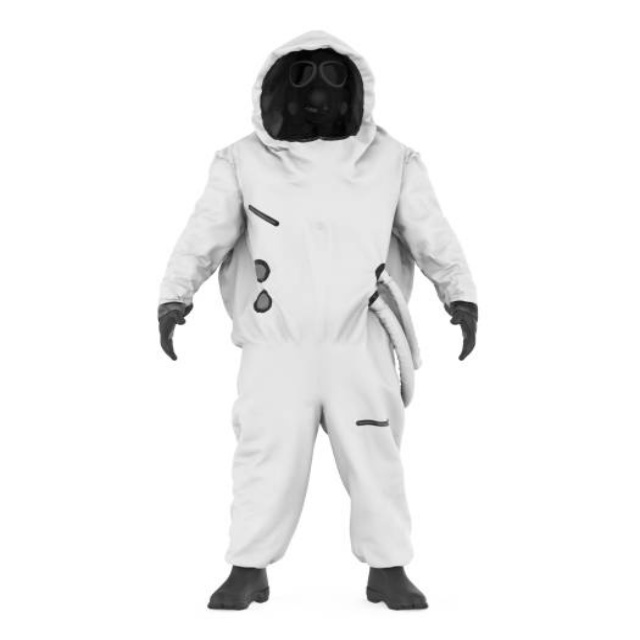Guantes: (158, 303, 191, 361), (447, 301, 478, 360)
